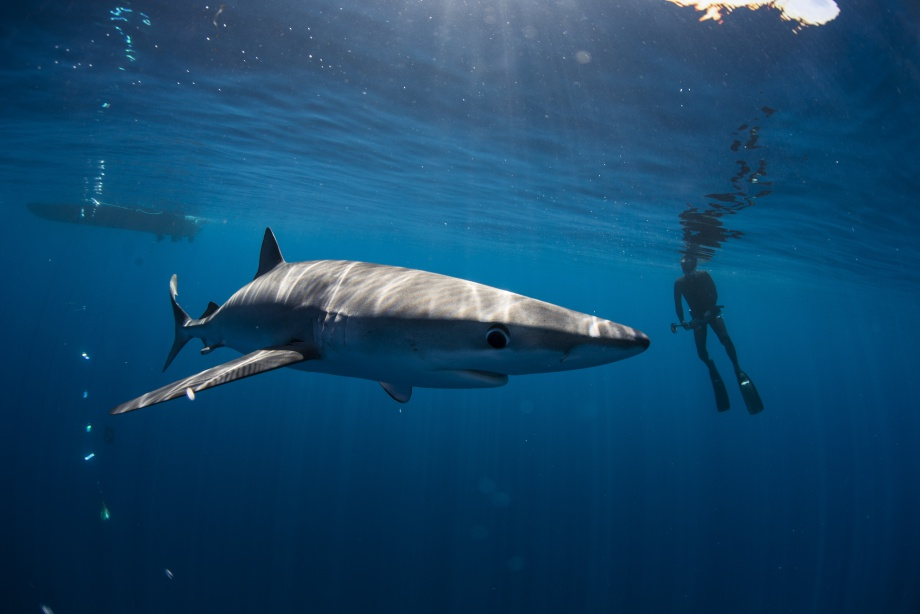Azul: (104, 217, 656, 445)
